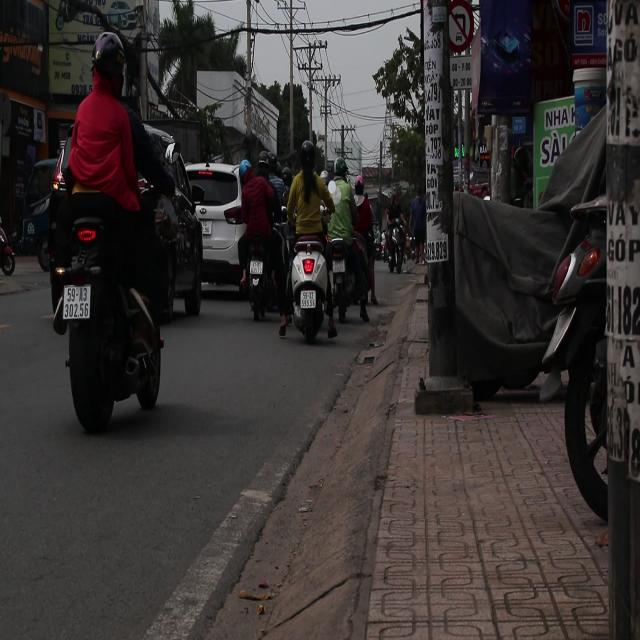car: (187, 162, 250, 296)
motorbike: (46, 190, 168, 432), (224, 221, 276, 327), (320, 200, 369, 312), (286, 238, 334, 343)
